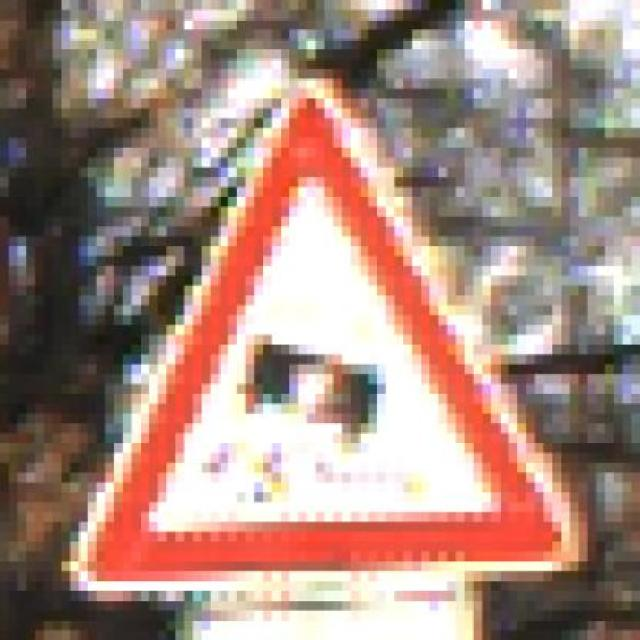Slippery Road Ahead: (51, 49, 586, 600)
